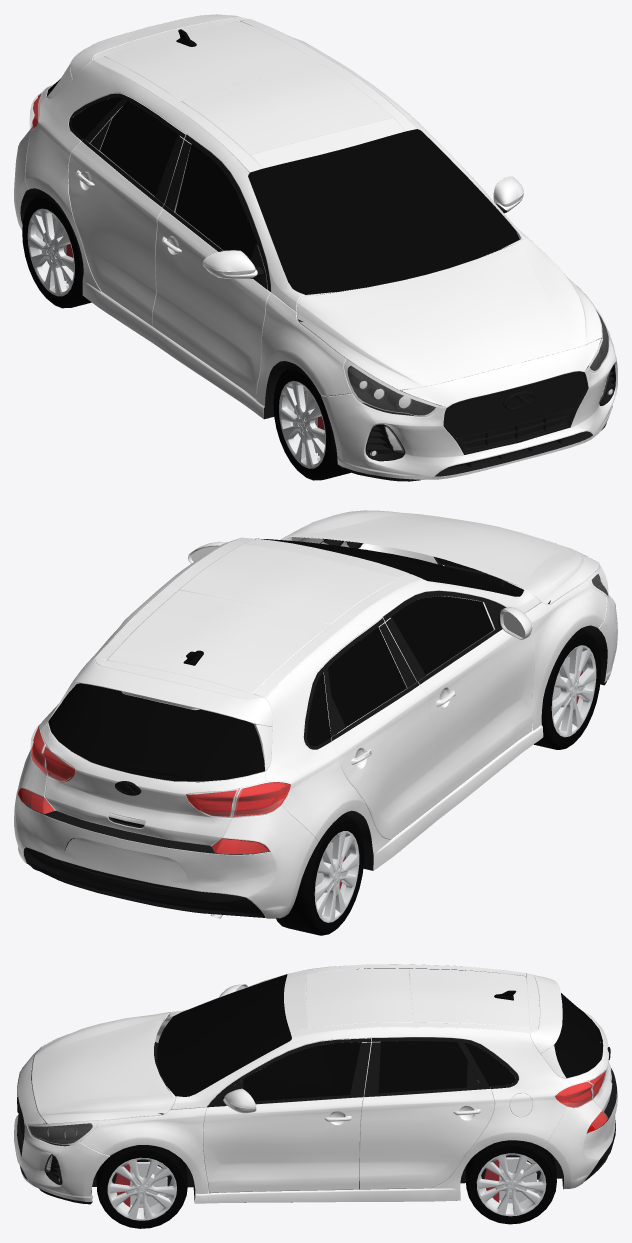
3 views of the same model, one above another, from view 1: azimuth 30°, elevation 25°; view 2: azimuth 150°, elevation 25°; view 3: azimuth 270°, elevation 25° (orthographic). The views are drawn at different scales.
Visible parts, largest first — view 1: body, model_1_1, hood, roof, model_0_0_0_0_0_0_0_1, model_0_0_0_0_0_0_0_0_0_0_0_0_0_0_0_0_1, model_0_1, model_0_0_0_0_1, model_1_0, model_0_0_0_0_0_0_0_0_0_0_0_0_0_0_1_0, model_0_0_0_0_0_0_0_0_0_0_0_0_0_1_0, body_0 (+4 smaller); view 2: body, roof, model_1_1, hood, model_0_1, model_1_0, model_0_0_0_0_0_1, model_0_0_0_0_1, body_0, model_5_0_0_0_0_1, model_0_0_0_0_0_0_0_0_0_0_0_0_0_1_0, model_0_0_0_0_0_0_0_0_0_0_0_0_0_0_1_0 (+4 smaller); view 3: body (×2), model_1_1, roof, hood, model_0_1, model_0_0_0_0_1, model_0_0_0_0_0_0_0_0_0_0_0_0_0_0_1_0, model_0_0_0_0_0_0_0_0_0_0_0_0_0_1_0, model_1_0, model_0_0_0_0_0_0_0_0_0_0_0_0_0_0_0_0_1, body_0, model_0_0_0_0_0_0_0_0_0_1 (+2 smaller).
Boxes of the visible parts, left/top/right/bottom form: body: left=14, top=19, right=617, bottom=479; model_1_1: left=46, top=78, right=519, bottom=294; hood: left=296, top=238, right=601, bottom=407; roof: left=70, top=14, right=417, bottom=172; model_0_0_0_0_0_0_0_1: left=445, top=373, right=585, bottom=451; model_0_0_0_0_0_0_0_0_0_0_0_0_0_0_0_0_1: left=298, top=310, right=613, bottom=481; model_0_1: left=22, top=193, right=350, bottom=480; model_0_0_0_0_1: left=69, top=93, right=507, bottom=291; model_1_0: left=30, top=90, right=613, bottom=455; model_0_0_0_0_0_0_0_0_0_0_0_0_0_0_1_0: left=27, top=208, right=74, bottom=296; model_0_0_0_0_0_0_0_0_0_0_0_0_0_1_0: left=279, top=381, right=325, bottom=468; body_0: left=46, top=17, right=521, bottom=292; body: left=14, top=536, right=617, bottom=918; roof: left=73, top=537, right=422, bottom=726; model_1_1: left=48, top=538, right=520, bottom=781; hood: left=286, top=510, right=599, bottom=604; model_0_1: left=31, top=629, right=601, bottom=935; model_1_0: left=21, top=549, right=608, bottom=854; model_0_0_0_0_0_1: left=23, top=847, right=265, bottom=917; model_0_0_0_0_1: left=303, top=591, right=505, bottom=749; body_0: left=48, top=537, right=525, bottom=803; model_5_0_0_0_0_1: left=18, top=727, right=285, bottom=854; model_0_0_0_0_0_0_0_0_0_0_0_0_0_1_0: left=551, top=645, right=596, bottom=737; model_0_0_0_0_0_0_0_0_0_0_0_0_0_0_1_0: left=314, top=831, right=359, bottom=922; body (×2): left=14, top=964, right=617, bottom=1203; model_1_1: left=157, top=974, right=603, bottom=1101; roof: left=284, top=964, right=562, bottom=1053; hood: left=17, top=1012, right=175, bottom=1123; model_0_1: left=96, top=1140, right=556, bottom=1228; model_0_0_0_0_1: left=207, top=968, right=518, bottom=1107; model_0_0_0_0_0_0_0_0_0_0_0_0_0_0_1_0: left=476, top=1153, right=546, bottom=1216; model_0_0_0_0_0_0_0_0_0_0_0_0_0_1_0: left=107, top=1157, right=176, bottom=1220; model_1_0: left=27, top=1021, right=608, bottom=1181; model_0_0_0_0_0_0_0_0_0_0_0_0_0_0_0_0_1: left=17, top=1047, right=164, bottom=1204; body_0: left=169, top=969, right=603, bottom=1180; model_0_0_0_0_0_0_0_0_0_1: left=91, top=1042, right=563, bottom=1202.
Size of the model in its own units: 2.02 by 1.44 by 4.3.
